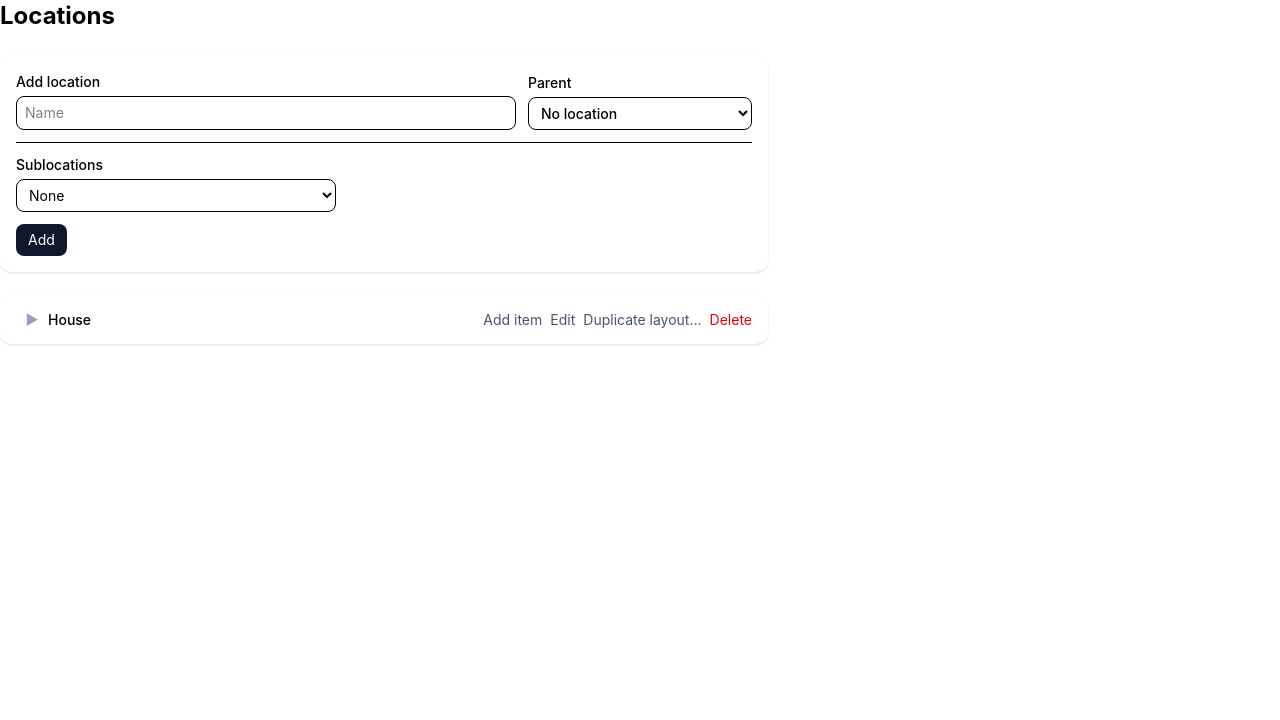
Test: LocationsView › a location with children gets a two-choice dialog naming it and its sublocation count
Click the button "Delete" at x=731, y=320, box [710,310,752,330]
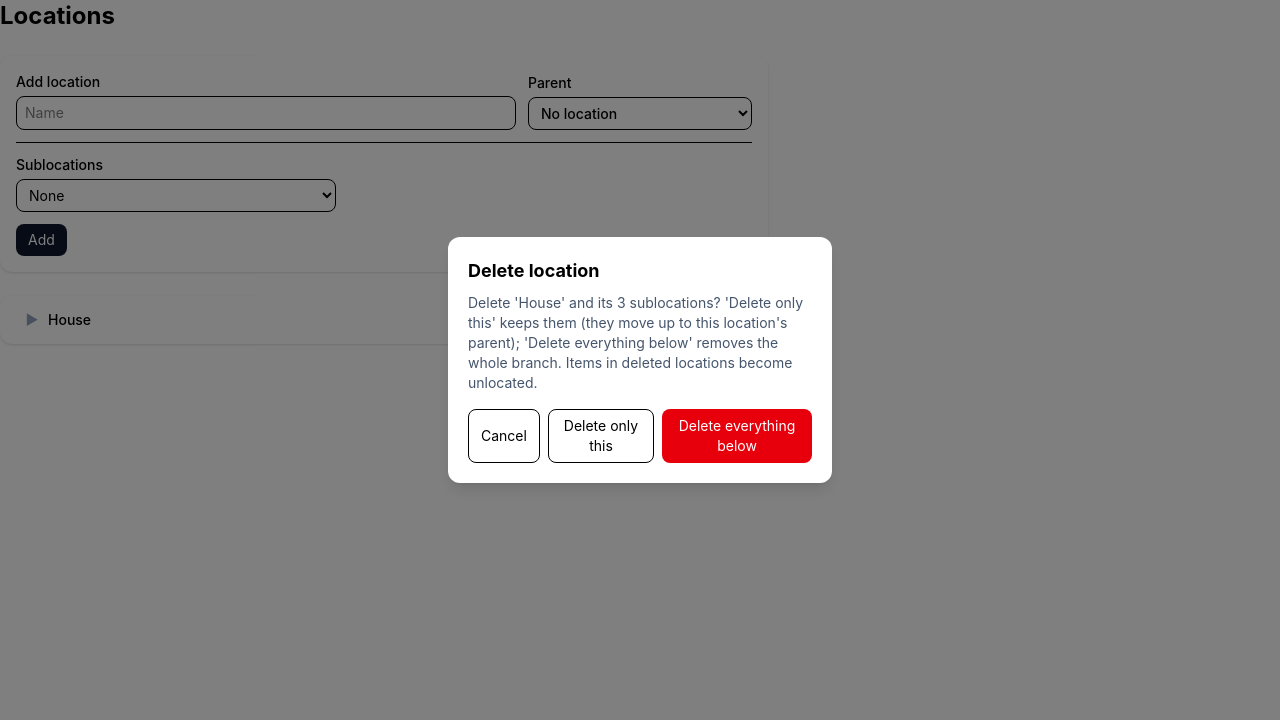
Expected: the dialog is shown, [448,237,832,483]
Expected: the text "Delete only this" is shown, [468,294,803,391]
Expected: the text "Delete everything below" is shown, [468,294,803,391]
